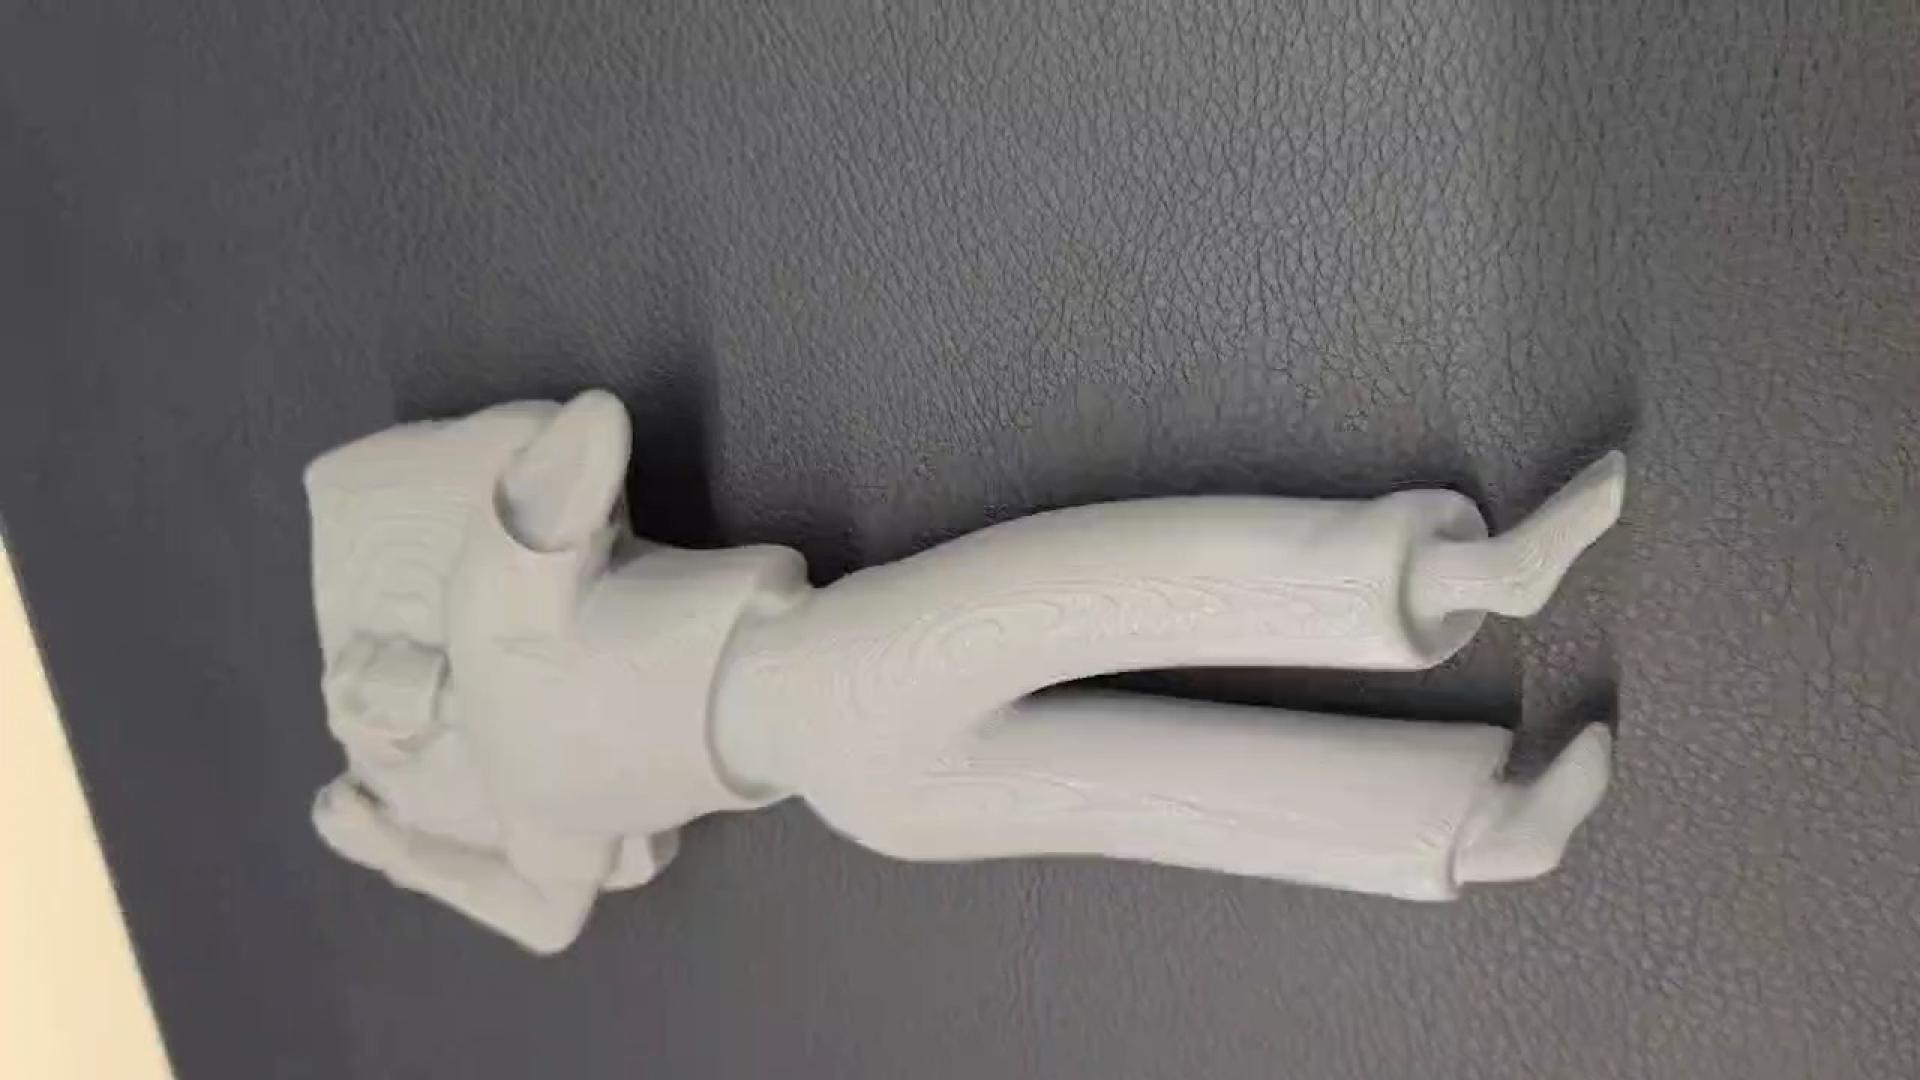Bad-style: (303, 388, 1631, 959)
